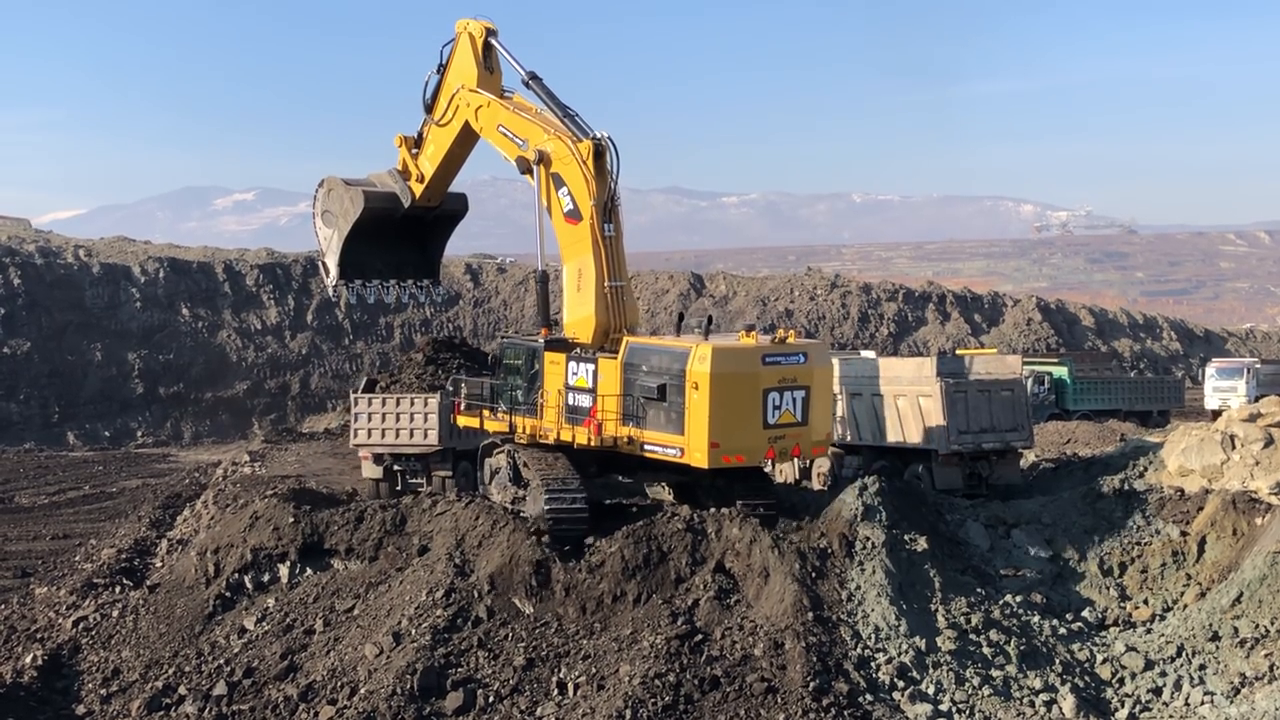empty: (316, 163, 471, 309)
